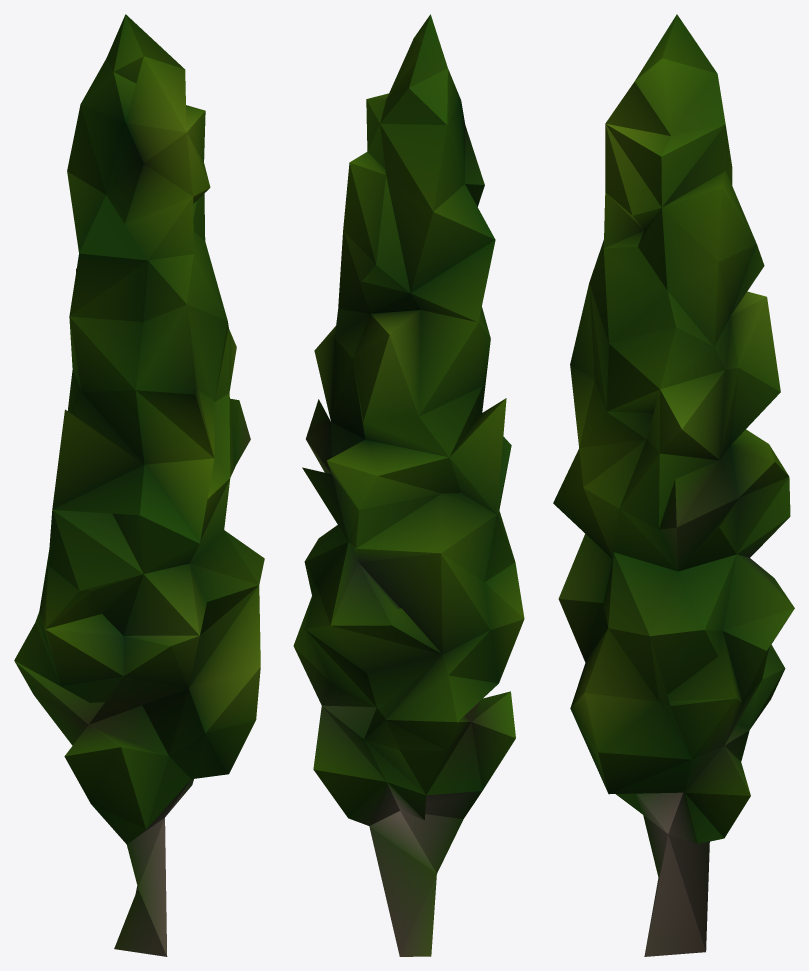
Rendered from tree-poplar.glb.
3 renders of one model, left to right at view 1: azimuth 30°, elevation 25°; view 2: azimuth 150°, elevation 25°; view 3: azimuth 270°, elevation 25°, orthographic.
Visible parts, largest first — view 1: tree-poplar-far; view 2: tree-poplar-far; view 3: tree-poplar-far.
Boxes of the visible parts, bbox=[...] form: tree-poplar-far: bbox=[14, 14, 264, 956]; tree-poplar-far: bbox=[293, 14, 524, 956]; tree-poplar-far: bbox=[553, 14, 794, 956].
Size of the model in its own units: 2.76 by 11.62 by 2.74.
